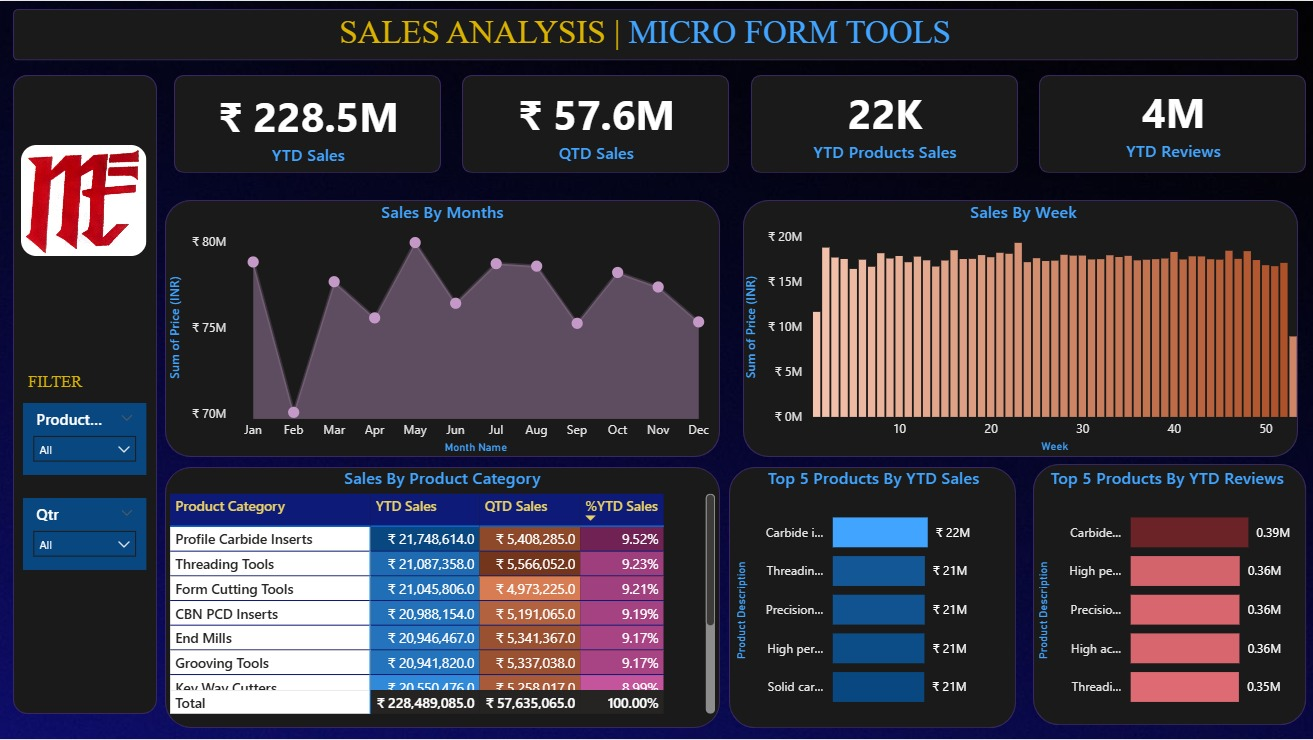

The dashboard page shown, as its layout file describes it:
{"tool":"powerbi","page":{"name":"MICRO FORM TOOLS","canvas":[1280,720],"ordinal":0},"visuals":[{"type":"shape","box":[14.6,7.8,1250,50],"z":0},{"type":"textbox","box":[326.8,6.8,625.4,50.6],"z":1000},{"type":"shape","box":[14.6,72,140.1,621.5],"z":2000},{"type":"shape","box":[171.2,72,259.7,95.3],"z":3000},{"type":"shape","box":[451.6,72,259.7,95.3],"z":4000},{"type":"shape","box":[732.1,72,259.7,95.3],"z":5000},{"type":"card","fields":{"Values":["MFT_Data.YTD Sales"]},"box":[171.2,73.9,261.6,95.3],"z":5000,"group":"g1"},{"type":"shape","box":[1012.5,72,259.7,95.3],"z":6000},{"type":"shape","box":[162.4,193.6,539.8,250],"z":7000},{"type":"group","id":"g1","title":"Group 1","box":[171.2,70,1103,99.2],"z":8000},{"type":"card","fields":{"Values":["MFT_Data.YTD Sales"]},"box":[451.3,71.9,261.6,95.3],"z":8000,"group":"g1"},{"type":"areaChart","title":"Sales By Months","fields":{"Category":["Date Table.Month Name"],"Y":["Sum(MFT_Data.Price (INR))"]},"box":[162.4,194,539.8,250],"z":9000},{"type":"card","fields":{"Values":["MFT_Data.YTD Products Sales"]},"box":[732.4,71.9,260.7,93.4],"z":10000,"group":"g1"},{"type":"shape","box":[724.6,193.6,539.8,250],"z":10000},{"type":"card","fields":{"Values":["MFT_Data.YTD Reviews"]},"box":[1012.5,70,261.6,95.3],"z":11000,"group":"g1"},{"type":"columnChart","title":"Sales By Week","fields":{"Category":["Date Table.Week Number"],"Y":["Sum(MFT_Data.Price (INR))"]},"box":[722.7,194.5,549.5,249],"z":11000},{"type":"shape","box":[711,453.4,279.2,254.1],"z":12000},{"type":"shape","box":[162.4,453.3,539.8,253.9],"z":13000},{"type":"pivotTable","title":"Sales By Product Category","fields":{"Rows":["MFT_Data.Product Category"],"Values":["MFT_Data.YTD Sales1","MFT_Data.QTD Sales","MFT_Data.YTD Sales"]},"box":[162.4,453.3,539.8,245.1],"z":14000},{"type":"shape","box":[1006.4,450.7,265.7,254.1],"z":15000},{"type":"clusteredBarChart","title":"Top 5 Products By YTD Sales","fields":{"Category":["MFT_Data.Product Description"],"Y":["MFT_Data.YTD Sales"]},"box":[712.8,453.4,277.4,249.6],"z":16000},{"type":"clusteredBarChart","title":"Top 5 Products By YTD Reviews","fields":{"Category":["MFT_Data.Product Description"],"Y":["MFT_Data.YTD Reviews"]},"box":[1006.4,453.4,261.2,249.6],"z":17000},{"type":"slicer","title":"Product Category","fields":{"Values":["MFT_Data.Product Category"]},"box":[24.3,391,119.6,70],"z":18000},{"type":"slicer","title":"Product Category","fields":{"Values":["Date Table.Qtr"]},"box":[24.3,483.4,119.6,70],"z":19000},{"type":"image","box":[22.4,140.1,121.6,108],"z":20000},{"type":"textbox","box":[24.3,356,101.2,35],"z":22000}]}

Visuals, with their boxes in screenshot pixels (x1, y1, x2, y2), scaled from the page's 1280x720 canvas onto the 1313x740 screenshot:
shape: (15, 8, 1297, 59)
textbox: (335, 7, 977, 59)
shape: (15, 74, 159, 713)
shape: (176, 74, 442, 172)
shape: (463, 74, 730, 172)
shape: (751, 74, 1017, 172)
card - MFT_Data.YTD Sales: (176, 76, 444, 174)
shape: (1039, 74, 1305, 172)
shape: (167, 199, 720, 456)
"Group 1" group: (176, 72, 1307, 174)
card - MFT_Data.YTD Sales: (463, 74, 731, 172)
"Sales By Months" areaChart: (167, 199, 720, 456)
card - MFT_Data.YTD Products Sales: (751, 74, 1019, 170)
shape: (743, 199, 1297, 456)
card - MFT_Data.YTD Reviews: (1039, 72, 1307, 170)
"Sales By Week" columnChart: (741, 200, 1305, 456)
shape: (729, 466, 1016, 727)
shape: (167, 466, 720, 727)
"Sales By Product Category" pivotTable: (167, 466, 720, 718)
shape: (1032, 463, 1305, 724)
"Top 5 Products By YTD Sales" clusteredBarChart: (731, 466, 1016, 723)
"Top 5 Products By YTD Reviews" clusteredBarChart: (1032, 466, 1300, 723)
"Product Category" slicer: (25, 402, 148, 474)
"Product Category" slicer: (25, 497, 148, 569)
image: (23, 144, 148, 255)
textbox: (25, 366, 129, 402)
